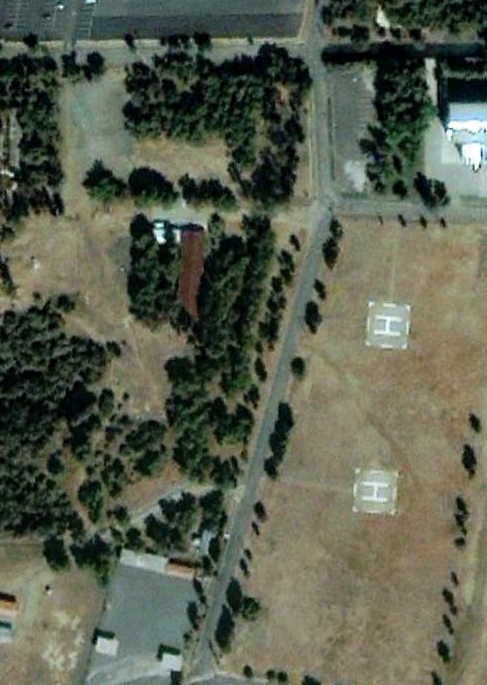heliport: (358, 476, 393, 505), (371, 308, 403, 339)
